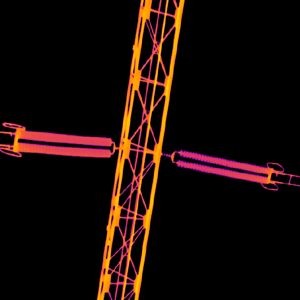insulator: (173, 144, 270, 184), (11, 127, 113, 158)
